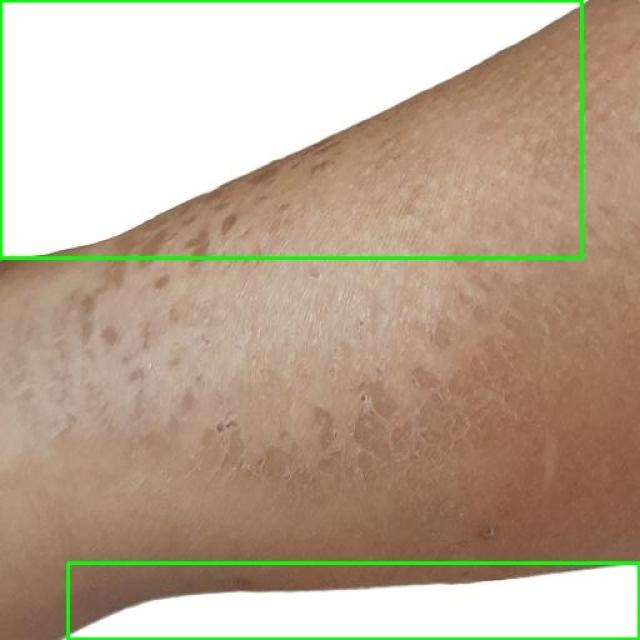Contact Dermatitis: (0, 0, 581, 258), (68, 562, 639, 639)
